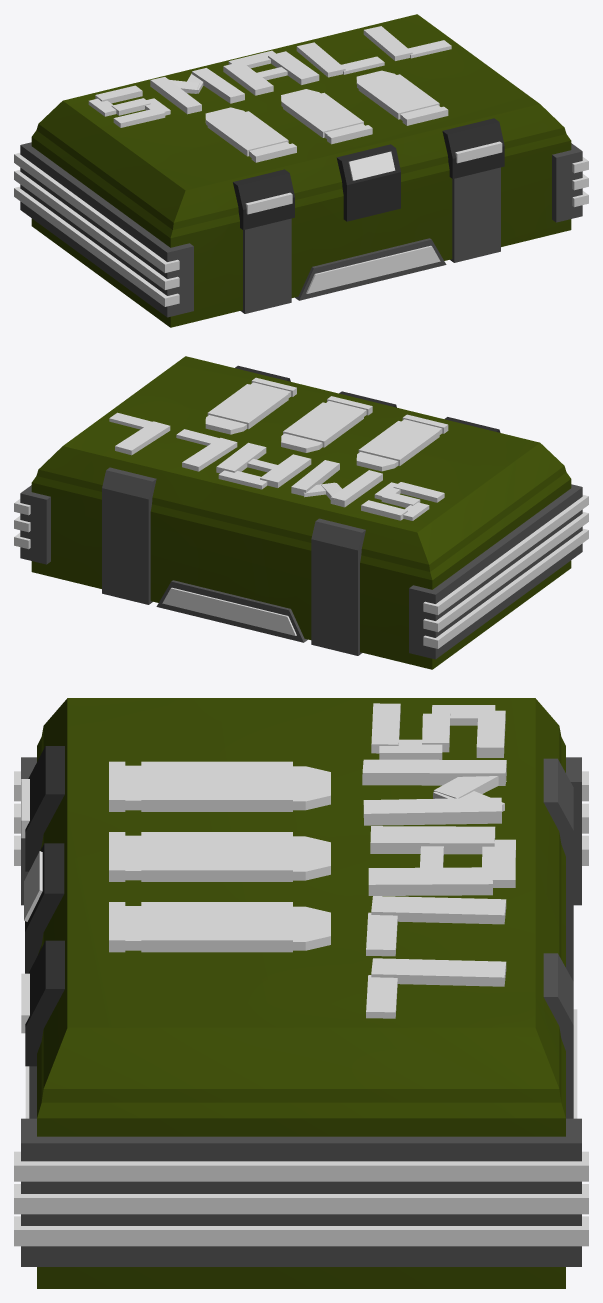
The model's file is Small_Box.fbx.
The picture shows the model from 3 angles, top to bottom: view 1: azimuth 30°, elevation 25°; view 2: azimuth 150°, elevation 25°; view 3: azimuth 270°, elevation 25°; orthographic projection. The views are drawn at different scales.
Parts seen in each view (by area): view 1: Box.001, Neon.001, Name, Bullet, LED.001; view 2: Box.001, Neon.001, Name, Bullet; view 3: Box.001, Neon.001, Bullet, Name, LED.001.
Boxes of the visible parts, x1,y1,x2,y2 form: Box.001: [20, 14, 582, 327]; Neon.001: [14, 141, 588, 306]; Name: [88, 26, 451, 127]; Bullet: [205, 70, 448, 162]; LED.001: [348, 151, 395, 180]; Box.001: [20, 356, 582, 669]; Neon.001: [14, 495, 588, 648]; Name: [109, 412, 444, 520]; Bullet: [205, 377, 448, 471]; Box.001: [21, 698, 581, 1288]; Neon.001: [14, 771, 588, 1246]; Bullet: [109, 761, 330, 952]; Name: [362, 703, 515, 1018]; LED.001: [24, 851, 42, 921].
Bounding box in the file's own units: 52.92 × 16.09 × 32.62.
